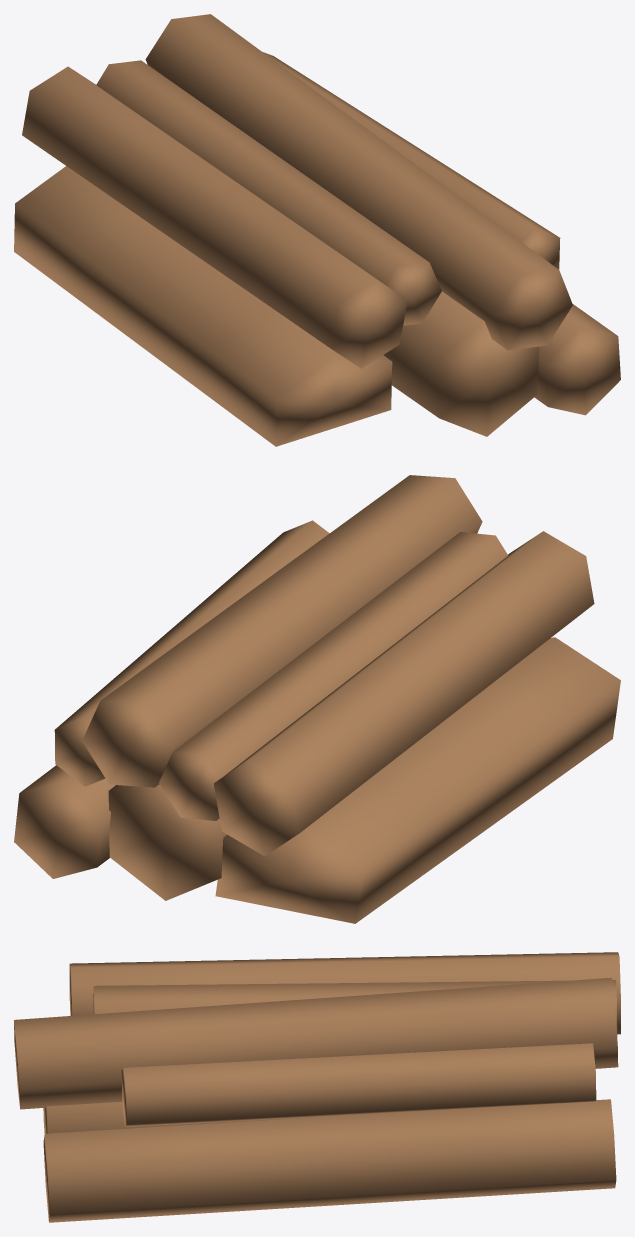
Rendered from piladetroncos1.fbx.
The picture shows the model from 3 angles, top to bottom: view 1: azimuth 30°, elevation 25°; view 2: azimuth 150°, elevation 25°; view 3: azimuth 270°, elevation 25°; orthographic projection. The views are drawn at different scales.
Parts seen in each view (by area): view 1: polySurface3; view 2: polySurface3; view 3: polySurface3.
Part boxes in pixels (x1=…): polySurface3: x1=14, y1=14, x2=620, y2=446; polySurface3: x1=14, y1=475, x2=620, y2=923; polySurface3: x1=14, y1=952, x2=620, y2=1222.
Bounding box in the file's own units: 2.44 × 1.45 × 4.14.
